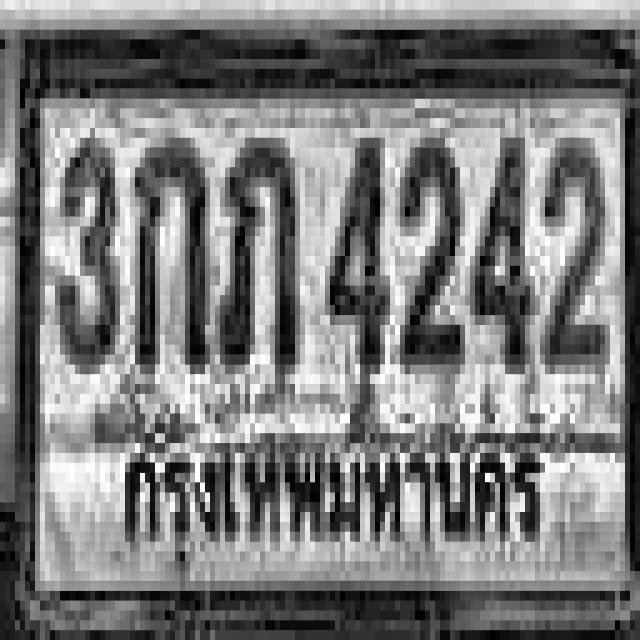license-plate: (23, 31, 640, 640)
